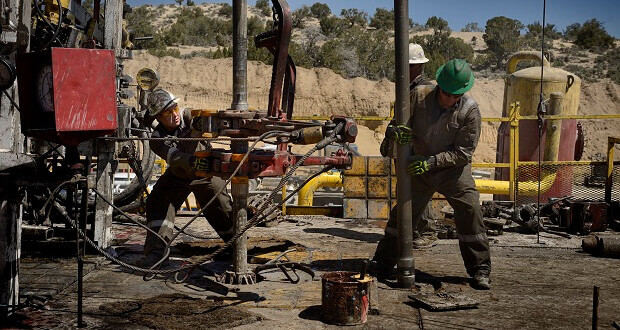epi: (396, 59, 498, 284), (142, 87, 260, 266), (396, 42, 434, 98)
